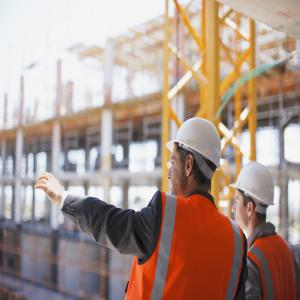white: (170, 116, 224, 199), (234, 162, 277, 235)
